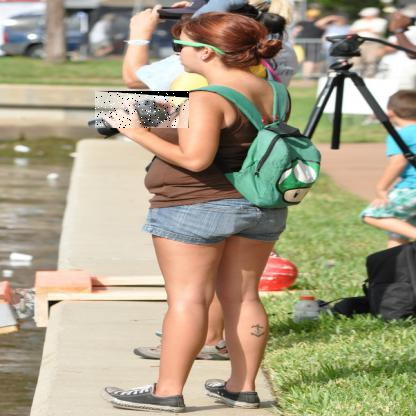Camera: (96, 92, 191, 130)
